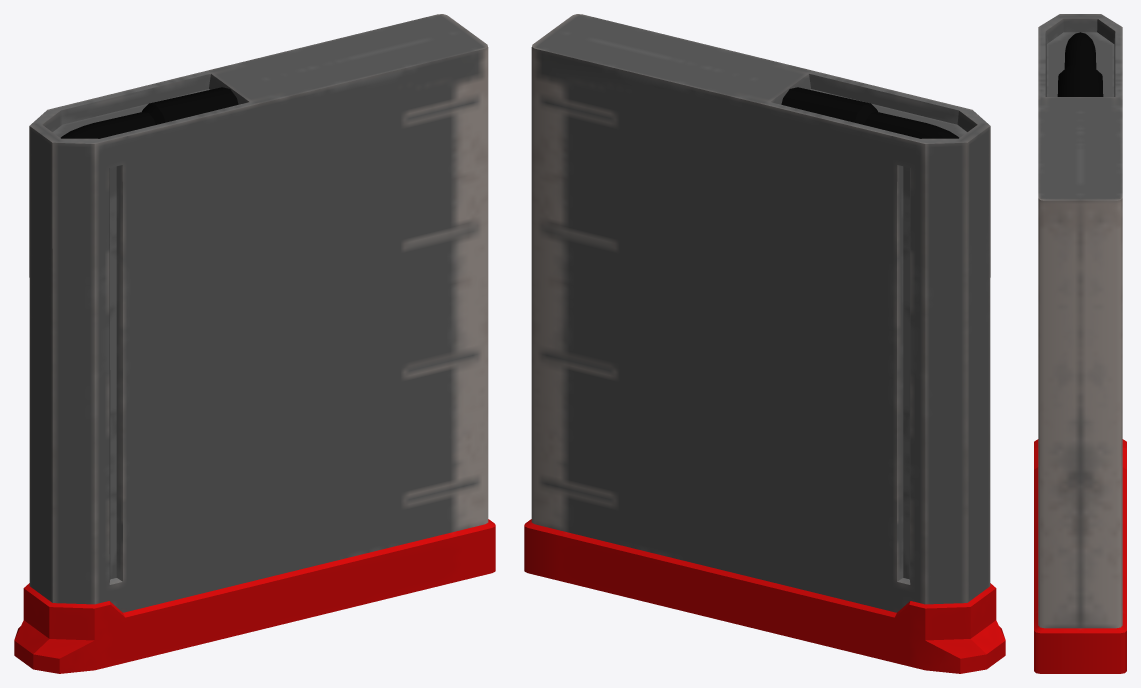
Rendered from Gun_Sniper_Ammo_Red.fbx.
The picture shows the model from 3 angles, left to right: view 1: azimuth 30°, elevation 25°; view 2: azimuth 150°, elevation 25°; view 3: azimuth 270°, elevation 25°; orthographic projection. The views are drawn at different scales.
Visible parts, largest first — view 1: Gun_Sniper_Ammo_Red; view 2: Gun_Sniper_Ammo_Red; view 3: Gun_Sniper_Ammo_Red.
Part boxes in pixels (x1,y1,x2,y2): Gun_Sniper_Ammo_Red: (14, 14, 495, 673); Gun_Sniper_Ammo_Red: (524, 14, 1005, 673); Gun_Sniper_Ammo_Red: (1034, 14, 1126, 673).
Size of the model in its own units: 13.84 by 15.46 by 2.75.
